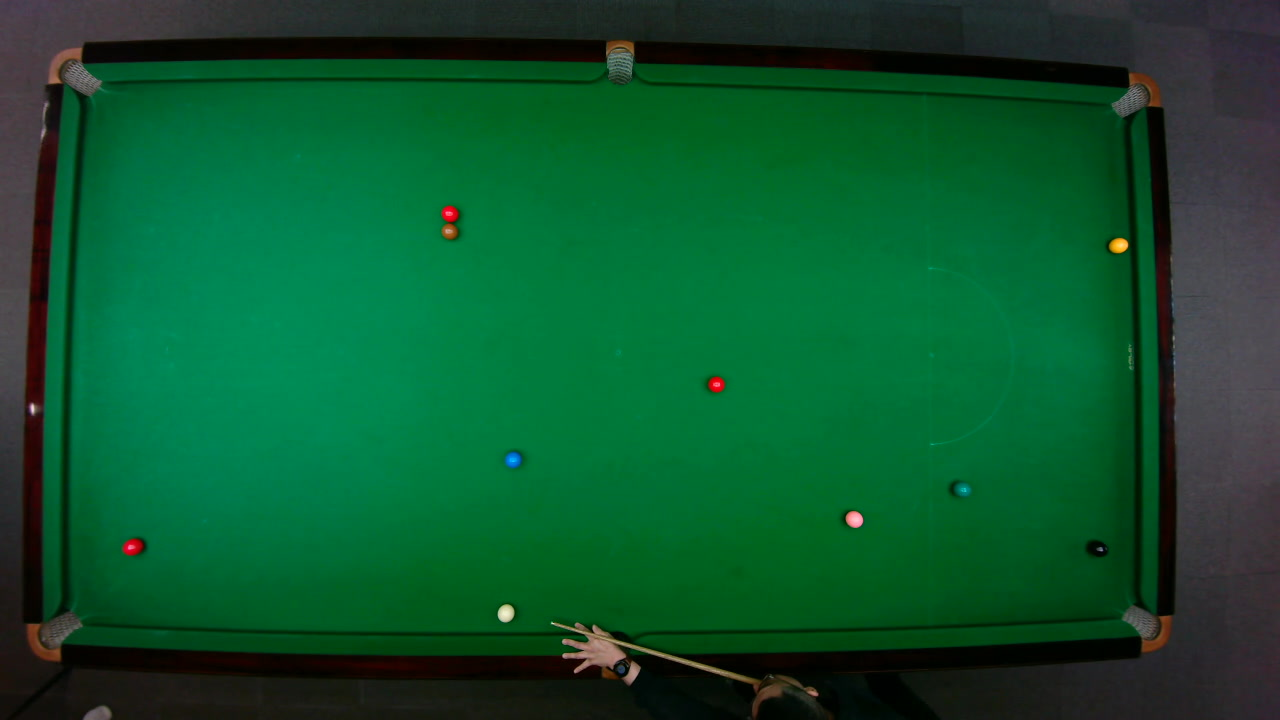bag: (25, 609, 83, 662), (45, 46, 102, 96), (1118, 603, 1172, 652), (1108, 71, 1161, 118), (605, 38, 633, 85)
black: (1087, 539, 1108, 557)
blue: (503, 450, 522, 468)
brown: (440, 223, 458, 240)
cue: (552, 621, 761, 687)
green: (951, 480, 972, 497)
pink: (843, 509, 864, 528)
red: (121, 537, 144, 555), (706, 374, 725, 393), (439, 204, 459, 222)
white: (495, 602, 515, 622)
yellow: (1107, 236, 1129, 253)
zone: (926, 266, 1013, 446)
